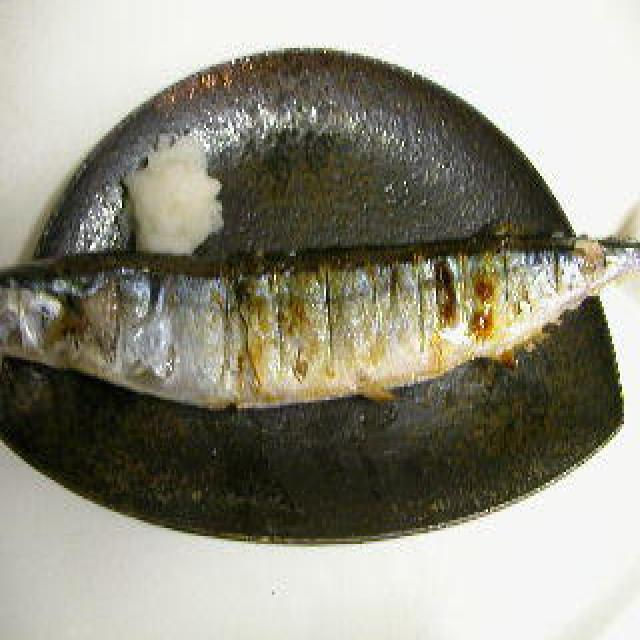熟制海鲜: (0, 235, 640, 416)
